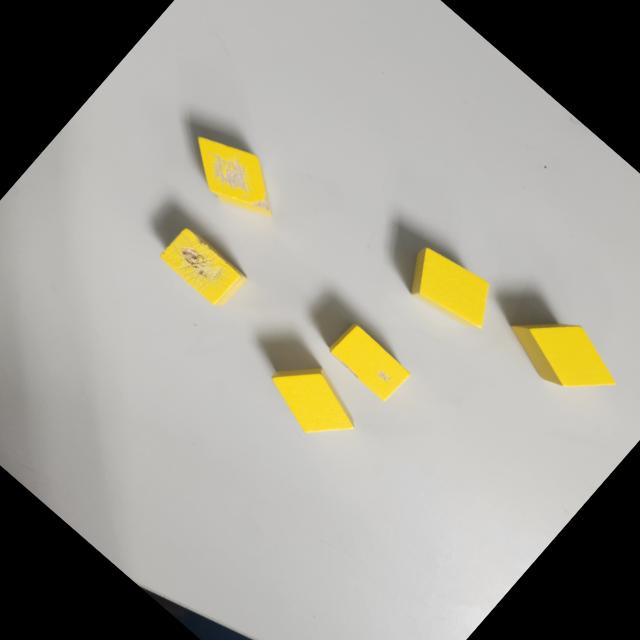broken: (172, 116, 295, 234), (156, 224, 250, 312), (325, 320, 414, 406)
yellow: (496, 289, 632, 421), (394, 235, 506, 344), (258, 348, 368, 454)
